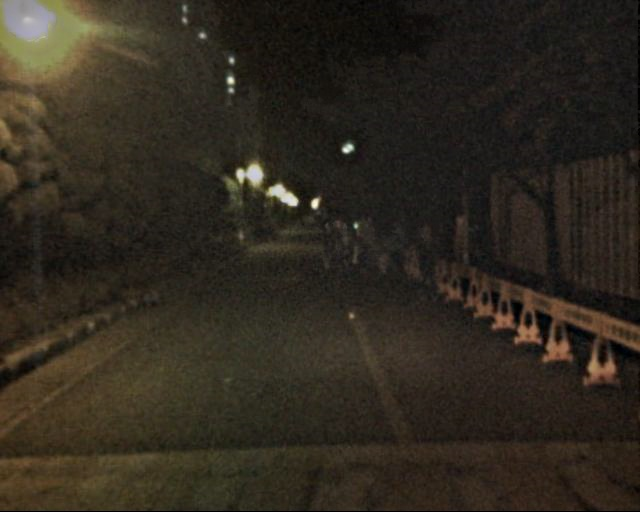person: (410, 225, 444, 308), (353, 216, 377, 275), (387, 217, 410, 274), (317, 219, 338, 270), (371, 226, 391, 275), (337, 220, 357, 268)
